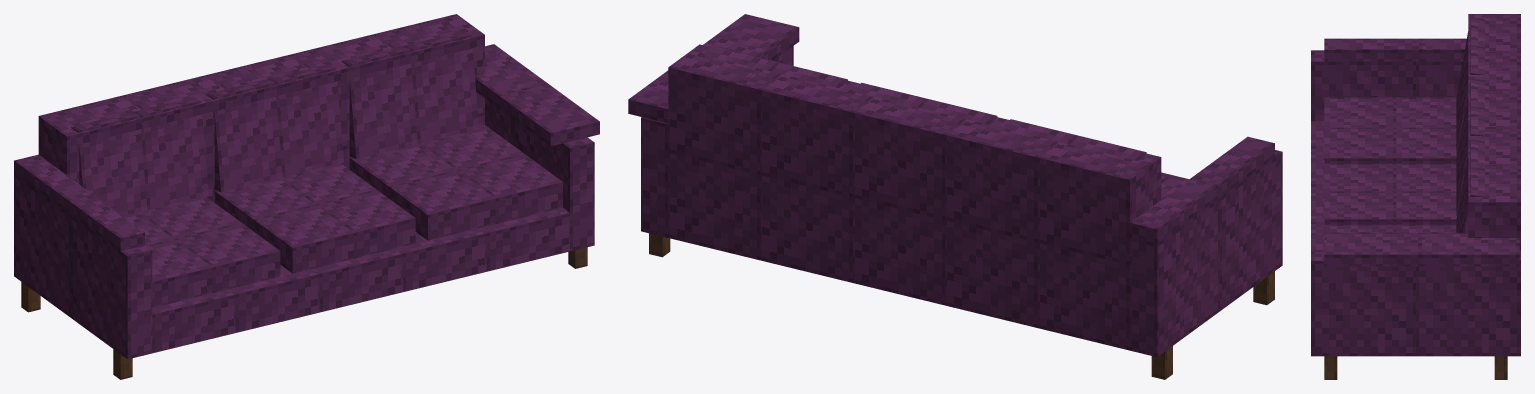
File: loungeCouchWide_1.glb
3 views of the same model, side by side, from view 1: azimuth 30°, elevation 25°; view 2: azimuth 150°, elevation 25°; view 3: azimuth 270°, elevation 25° (orthographic). The views are drawn at different scales.
Visible parts, largest first — view 1: loungeCouchWide_1; view 2: loungeCouchWide_1; view 3: loungeCouchWide_1.
Boxes of the visible parts, x1=… form: loungeCouchWide_1: x1=14, y1=14, x2=599, y2=379; loungeCouchWide_1: x1=628, y1=14, x2=1282, y2=379; loungeCouchWide_1: x1=1311, y1=14, x2=1520, y2=379.
Bounding box in the file's own units: 2.44 × 0.886 × 1.
Materials: 1 (1 with a texture image).
